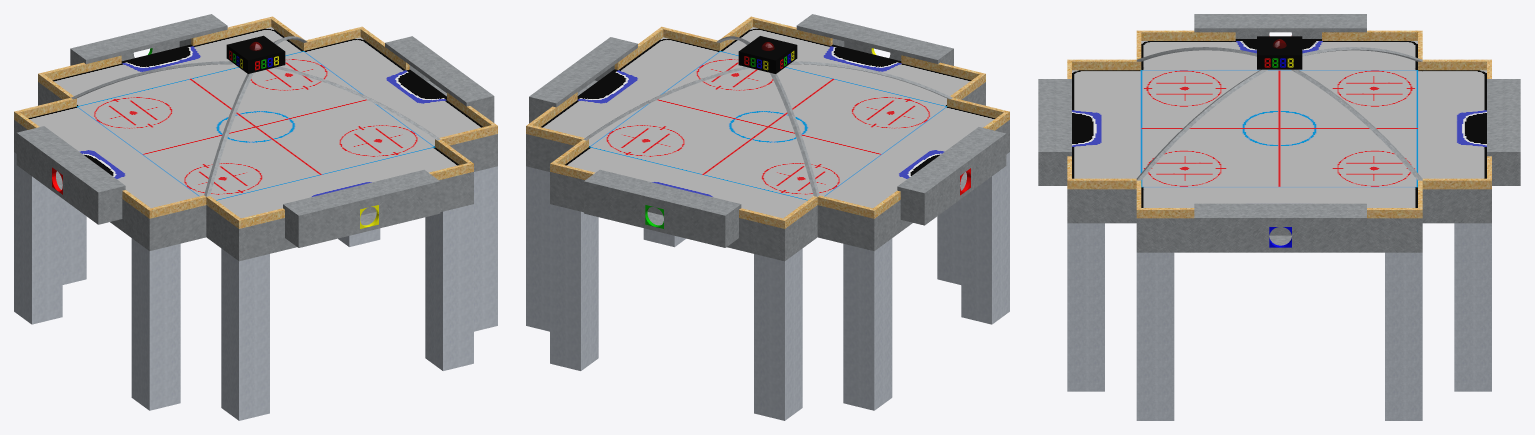
The model's file is Table4_1.FBX.
The picture shows the model from 3 angles, left to right: view 1: azimuth 30°, elevation 25°; view 2: azimuth 150°, elevation 25°; view 3: azimuth 270°, elevation 25°; orthographic projection. The views are drawn at different scales.
Parts seen in each view (by area): view 1: Layer0_001; view 2: Layer0_001; view 3: Layer0_001.
Boxes of the visible parts, x1,y1,x2,y2 form: Layer0_001: (14, 14, 497, 420); Layer0_001: (526, 14, 1009, 420); Layer0_001: (1038, 14, 1520, 420).
Size of the model in its own units: 2604 by 1739 by 2604.
12 materials, 5 textured.
